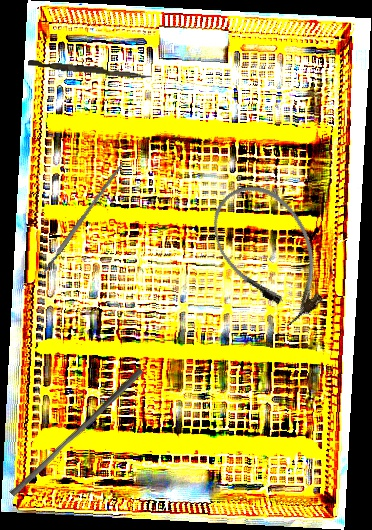Cannula: (196, 169, 344, 337)
Pusher: (9, 362, 144, 502), (27, 59, 153, 80)
Scalpel Handle: (41, 160, 126, 274)
